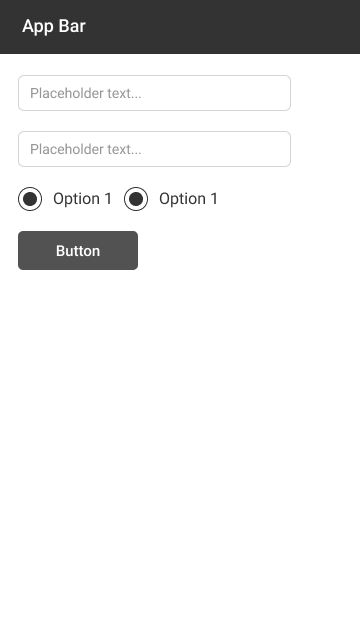button: (14, 226, 142, 275)
editText: (16, 72, 293, 114), (16, 129, 293, 169)
radioButton: (120, 183, 224, 213), (14, 183, 115, 213)
toolbar: (1, 1, 360, 55)
